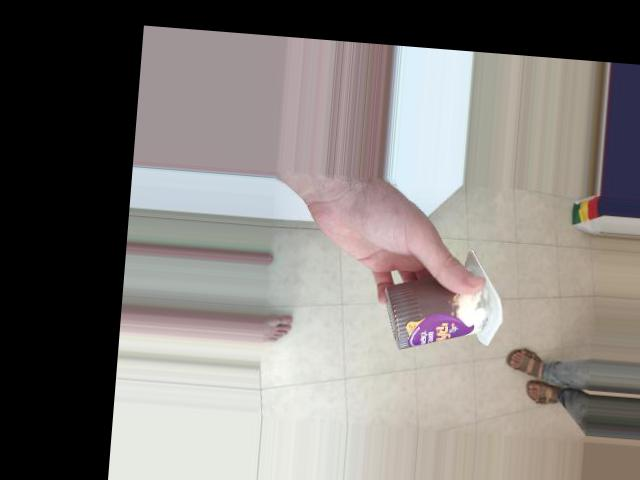milky: (383, 268, 499, 355)
